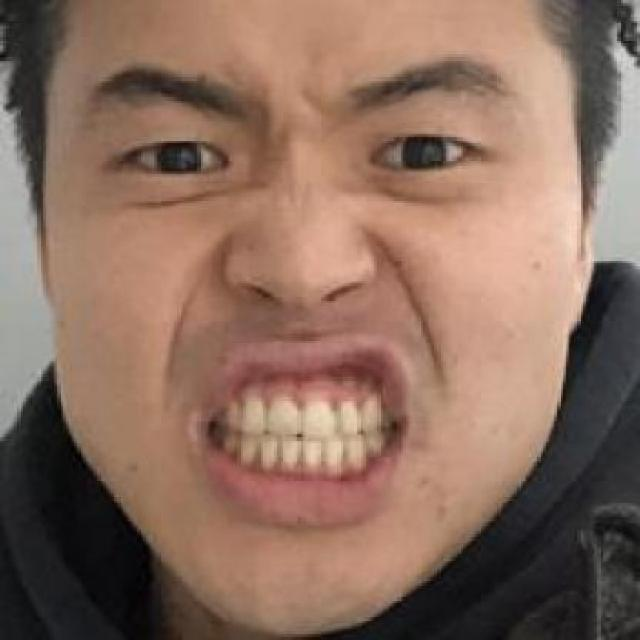angry: (76, 39, 522, 558)
